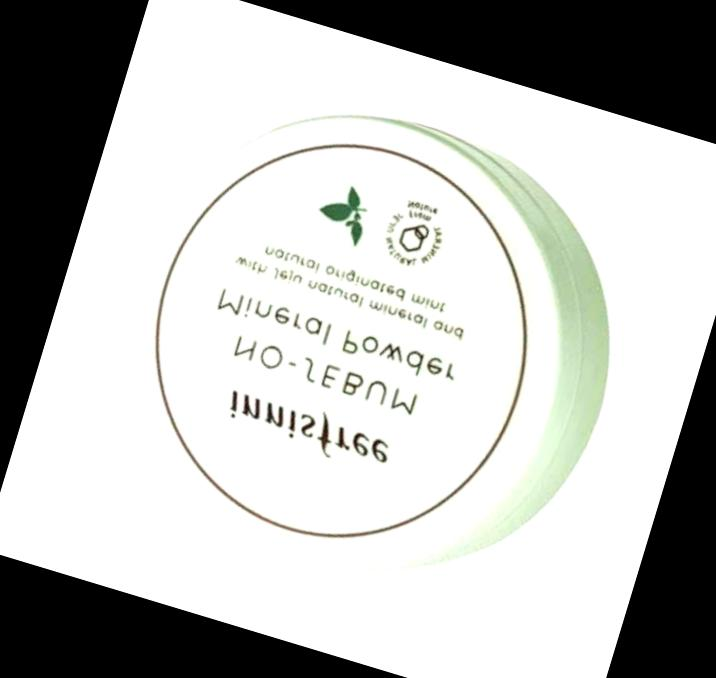cosmetic: (81, 69, 652, 627)
